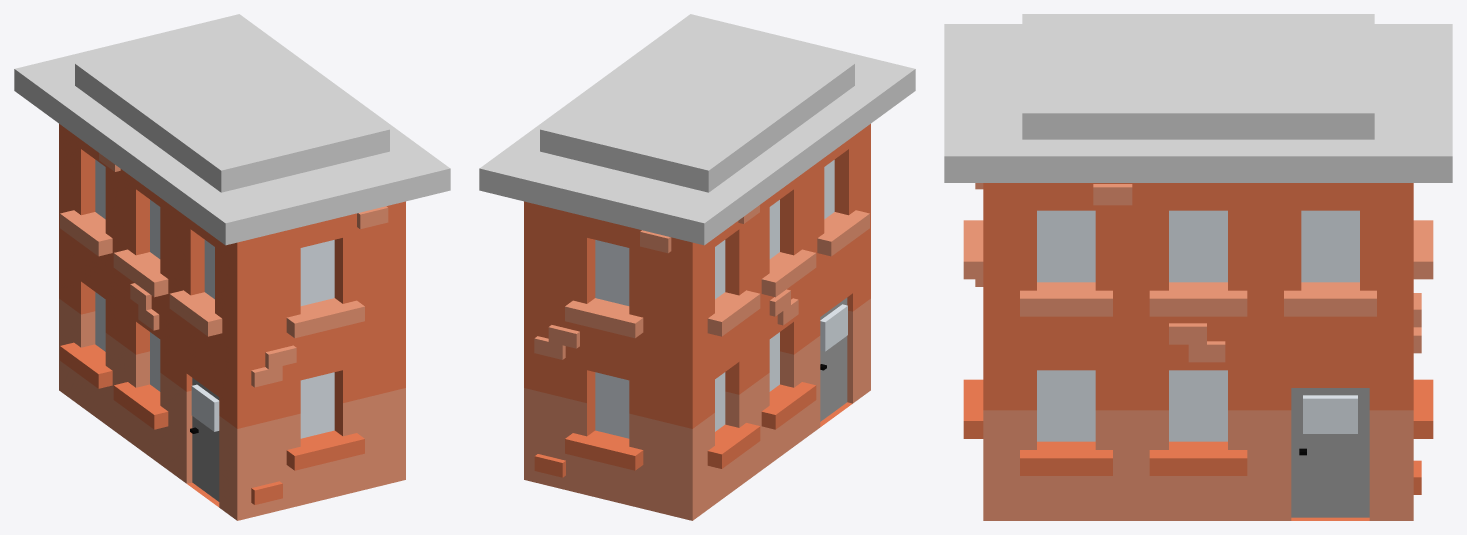
Rendered from Edificio 5.fbx.
3 renders of one model, left to right at view 1: azimuth 30°, elevation 25°; view 2: azimuth 150°, elevation 25°; view 3: azimuth 270°, elevation 25°, orthographic. The views are drawn at different scales.
Visible parts, largest first — view 1: [4243], Pared 2 [4296], Pared 1 [4260]; view 2: [4243], Pared 2 [4296], Pared 1 [4293]; view 3: Pared 2 [4290], [4243], Pared 1 [4293], Pared 1 [4260].
Boxes of the visible parts, box(x1,y1,x2,y2) form: [4243]: box(14, 14, 450, 245); Pared 2 [4296]: box(59, 124, 237, 520); Pared 1 [4260]: box(237, 201, 405, 520); [4243]: box(479, 14, 915, 245); Pared 2 [4296]: box(692, 124, 870, 520); Pared 1 [4293]: box(524, 201, 692, 520); Pared 2 [4290]: box(983, 183, 1413, 520); [4243]: box(944, 14, 1452, 182); Pared 1 [4293]: box(1413, 220, 1433, 494); Pared 1 [4260]: box(963, 183, 983, 438).
Size of the model in its own units: 315 by 512 by 453.
